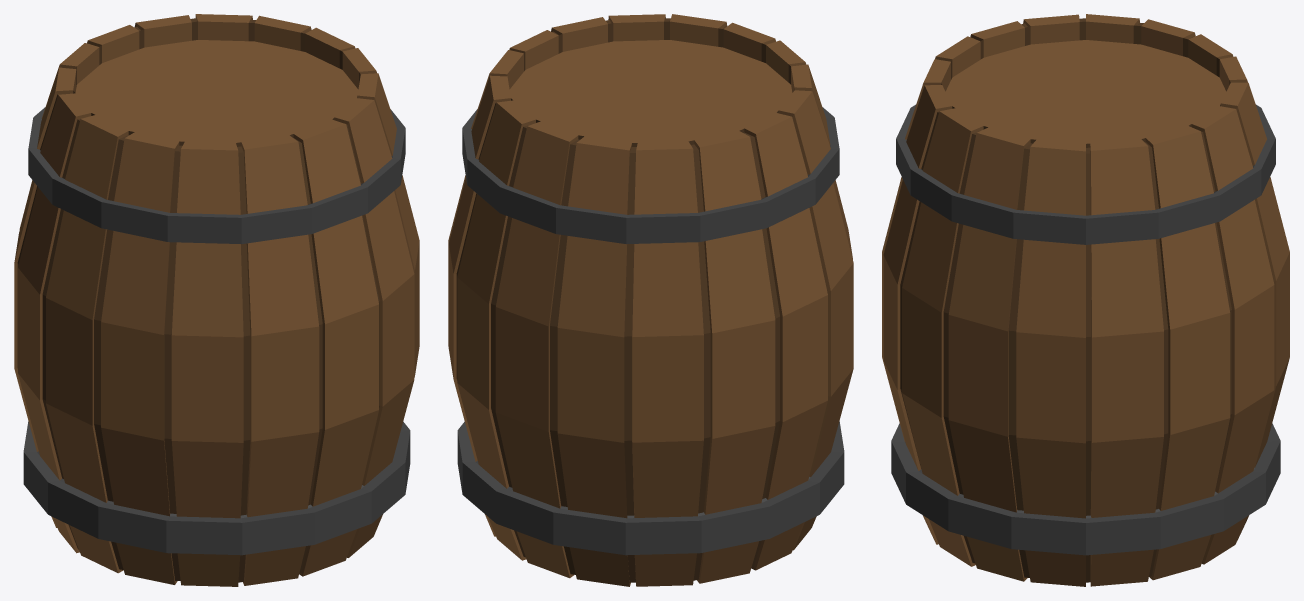
The model's file is Barrel.fbx.
3 renders of one model, left to right at view 1: azimuth 30°, elevation 25°; view 2: azimuth 150°, elevation 25°; view 3: azimuth 270°, elevation 25°, orthographic.
Parts seen in each view (by area): view 1: Barrell; view 2: Barrell; view 3: Barrell.
Boxes of the visible parts, box(x1,y1,x2,y2) form: Barrell: box(14, 14, 419, 586); Barrell: box(448, 14, 853, 586); Barrell: box(882, 14, 1289, 586).
Size of the model in its own units: 502 by 592 by 502.
